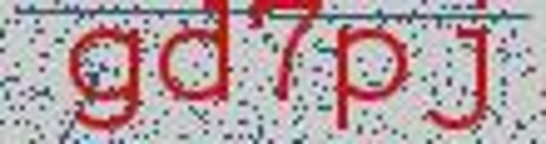7: (245, 2, 326, 107)
d: (155, 2, 238, 109)
g: (64, 24, 147, 134)
j: (417, 1, 499, 130)
p: (331, 15, 405, 134)
